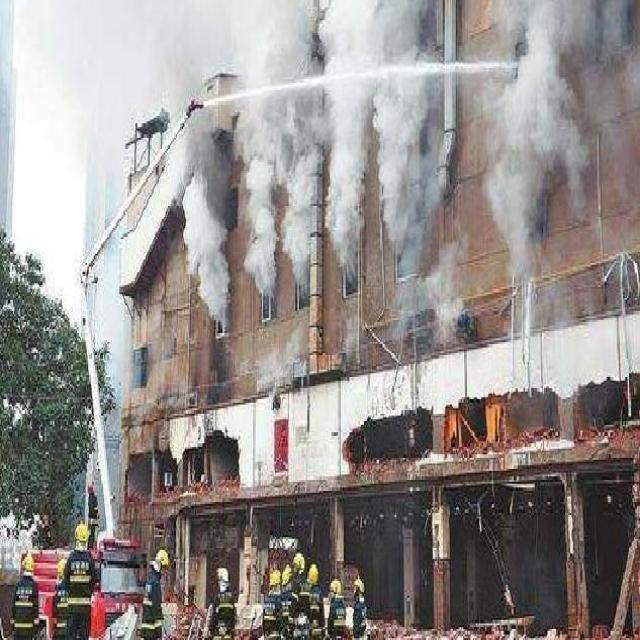Smoke: (232, 0, 322, 307), (490, 8, 582, 268), (379, 4, 436, 272), (321, 0, 372, 281), (174, 144, 232, 328), (531, 0, 637, 46), (410, 272, 468, 328)
